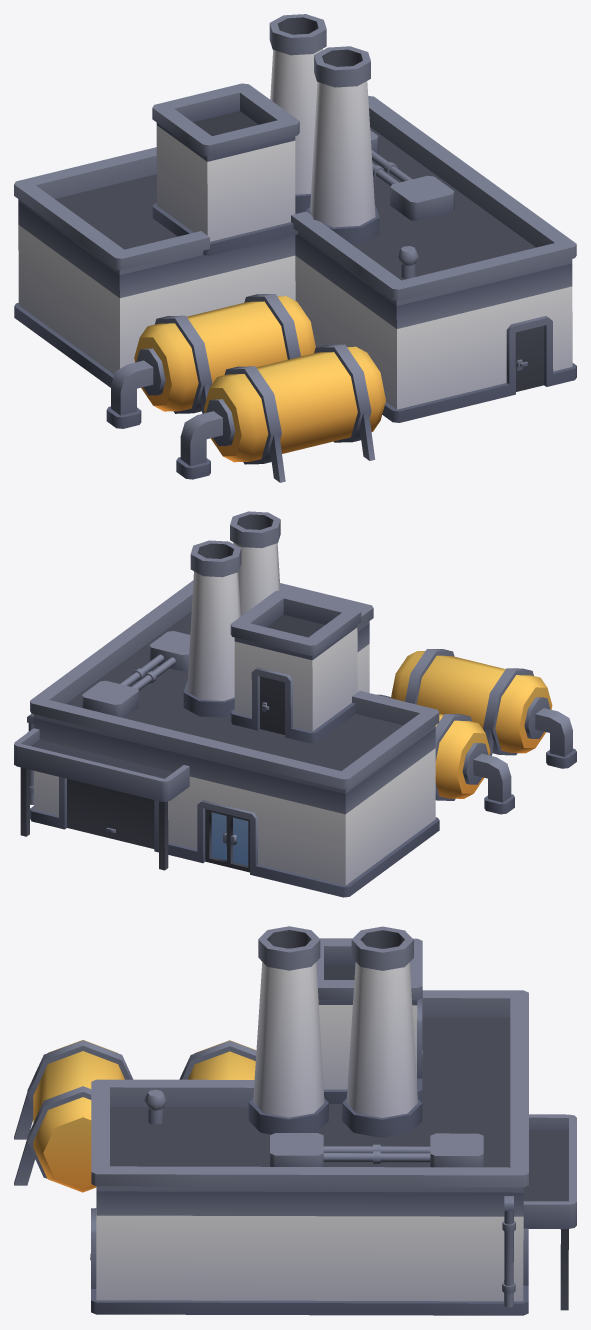
Rendered from building-c_lev1.glb.
The picture shows the model from 3 angles, top to bottom: view 1: azimuth 30°, elevation 25°; view 2: azimuth 150°, elevation 25°; view 3: azimuth 270°, elevation 25°; orthographic projection. The views are drawn at different scales.
Visible parts, largest first — view 1: building-c_lev1; view 2: building-c_lev1; view 3: building-c_lev1.
Boxes of the visible parts, x1=… form: building-c_lev1: x1=14, y1=14, x2=576, y2=482; building-c_lev1: x1=14, y1=511, x2=576, y2=897; building-c_lev1: x1=14, y1=926, x2=576, y2=1315.
Bounding box in the file's own units: 1.88 × 1.25 × 2.11.
Materials: 1 (1 with a texture image).
